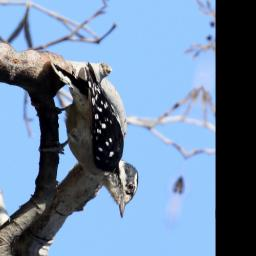Woodpecker: (19, 52, 164, 224)
